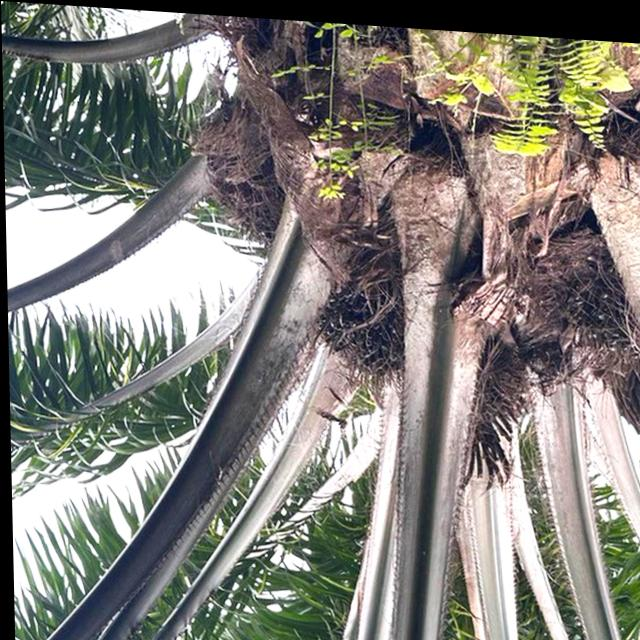unripe: (294, 236, 417, 393), (535, 209, 640, 363)
